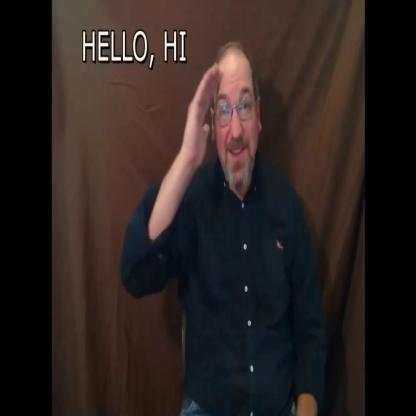Hello: (163, 41, 287, 225)
